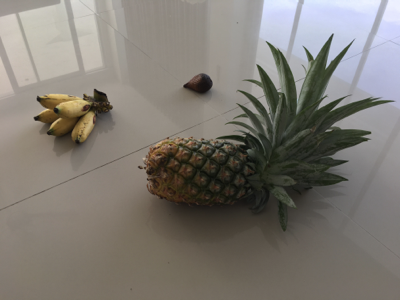banana: (31, 88, 114, 147)
pineapple: (144, 36, 395, 222)
snake fruit: (182, 73, 213, 95)
